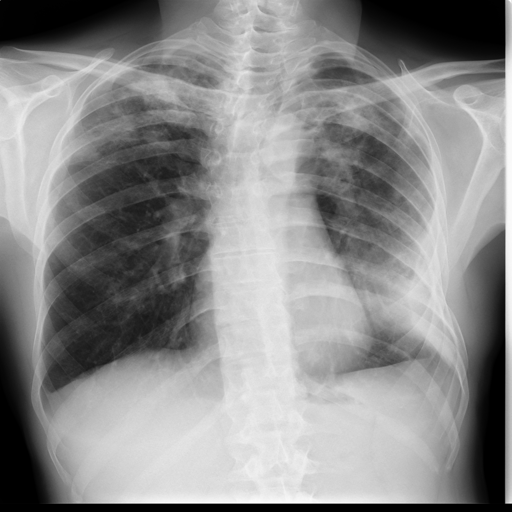TB: (367, 258, 439, 335), (318, 100, 364, 200)
